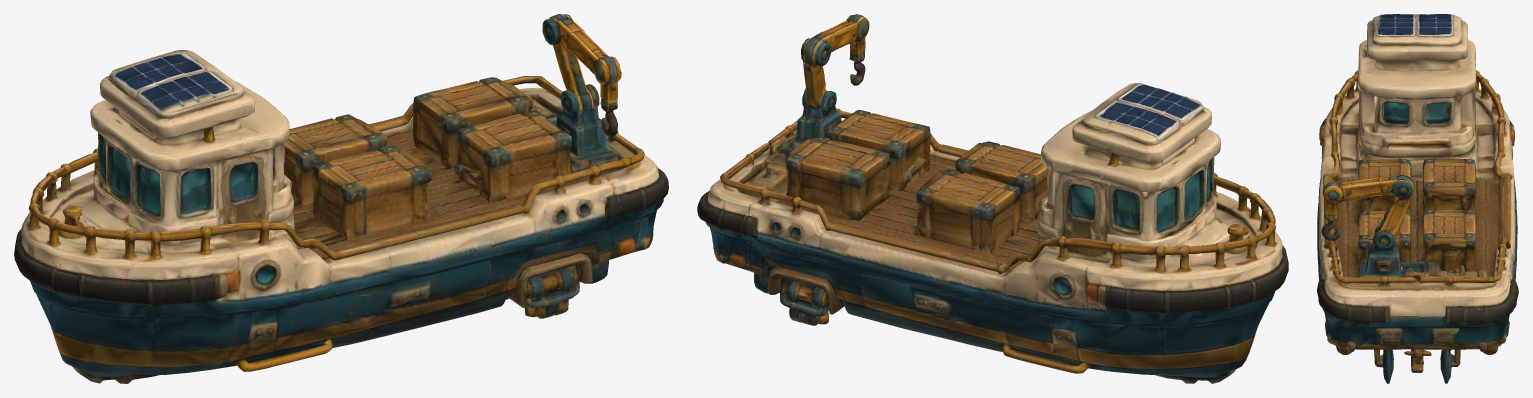
File: bv02-makers-workboat.glb
3 views of the same model, side by side, from view 1: azimuth 30°, elevation 25°; view 2: azimuth 150°, elevation 25°; view 3: azimuth 270°, elevation 25° (orthographic). The views are drawn at different scales.
Visible parts, largest first — view 1: mesh_node; view 2: mesh_node; view 3: mesh_node.
Part boxes in pixels (x1,y1,x2,y2): mesh_node: (14, 14, 668, 383); mesh_node: (697, 14, 1288, 383); mesh_node: (1317, 14, 1518, 383).
Bounding box in the file's own units: 1.9 × 0.8897 × 0.7465.
1 material, 1 textured.
